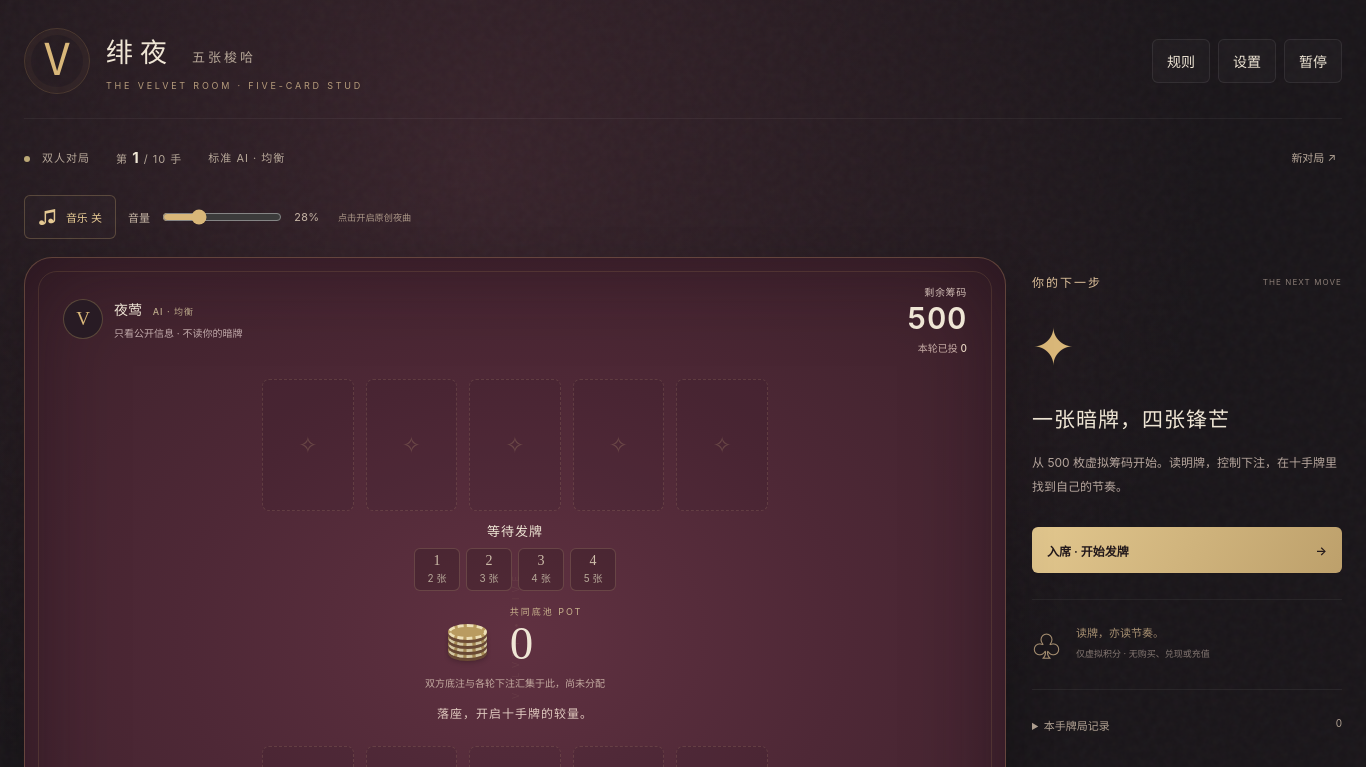
Test: interaction lifecycle › new match requires confirmation; stale AI timer cannot play into reset
The image size is (1366, 767).
Click the button "入席 · 开始发牌 →". click: (1088,551)
box: [1032,527,1342,573]
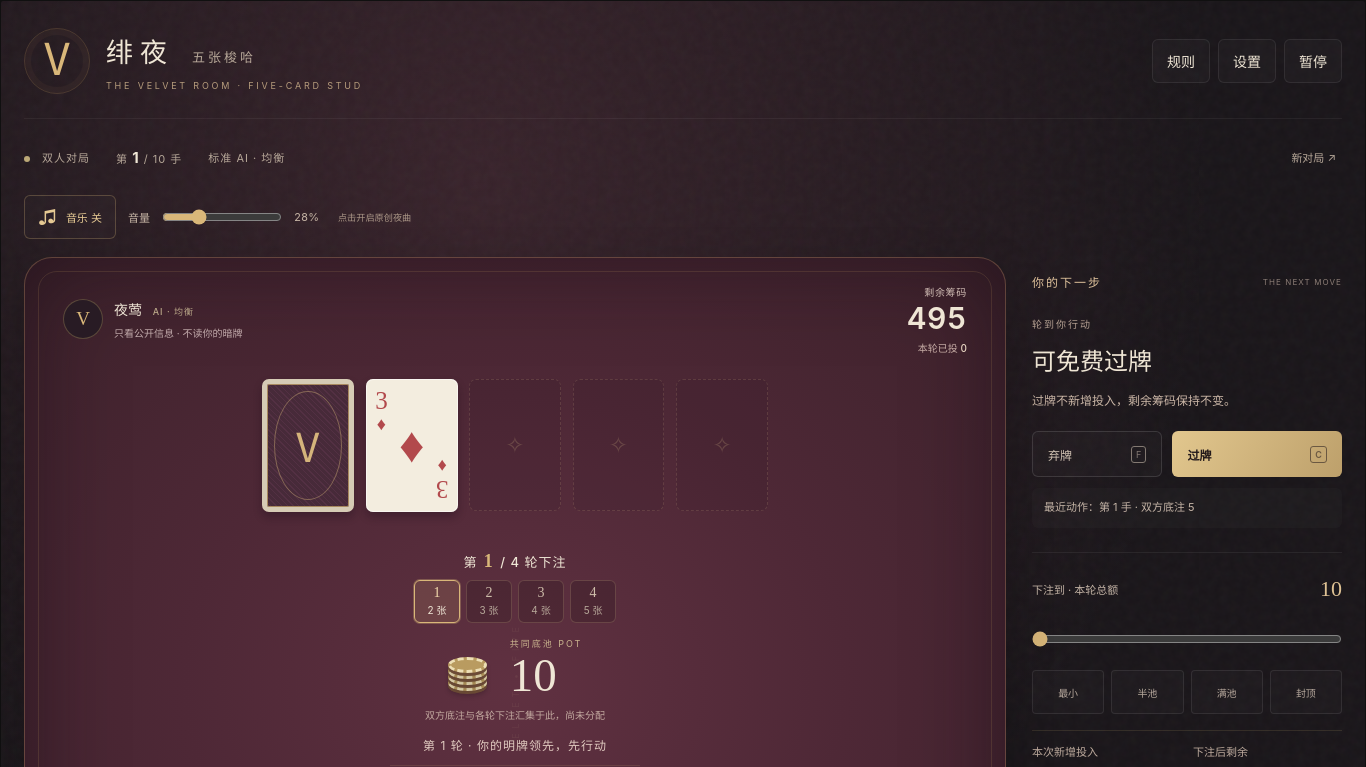
Click the button "新对局 ↗". click: (1314,157)
box: [1285,135,1342,179]
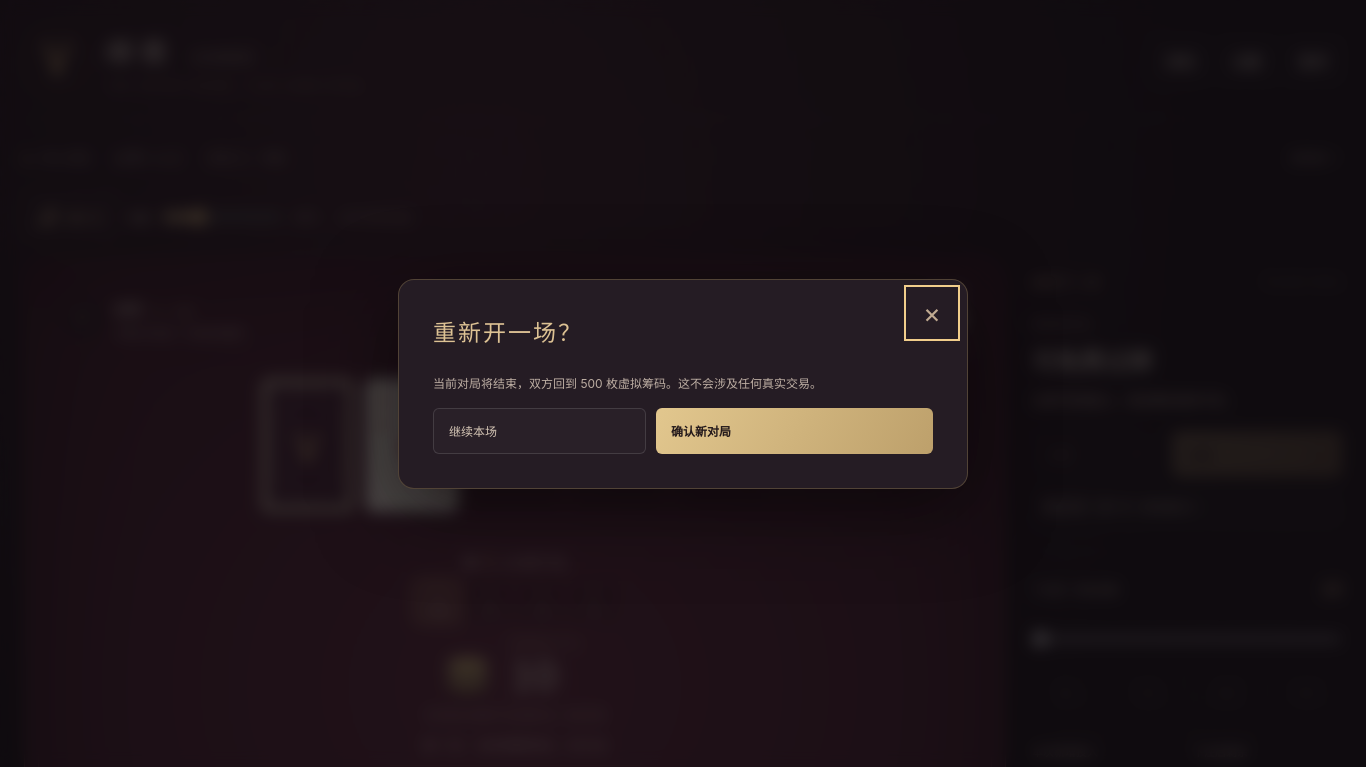
Result: the dialog is shown at [398,279,968,489]
Click the button "确认新对局". click: (701,432)
box: [656,408,933,454]
Wait 20000 ms
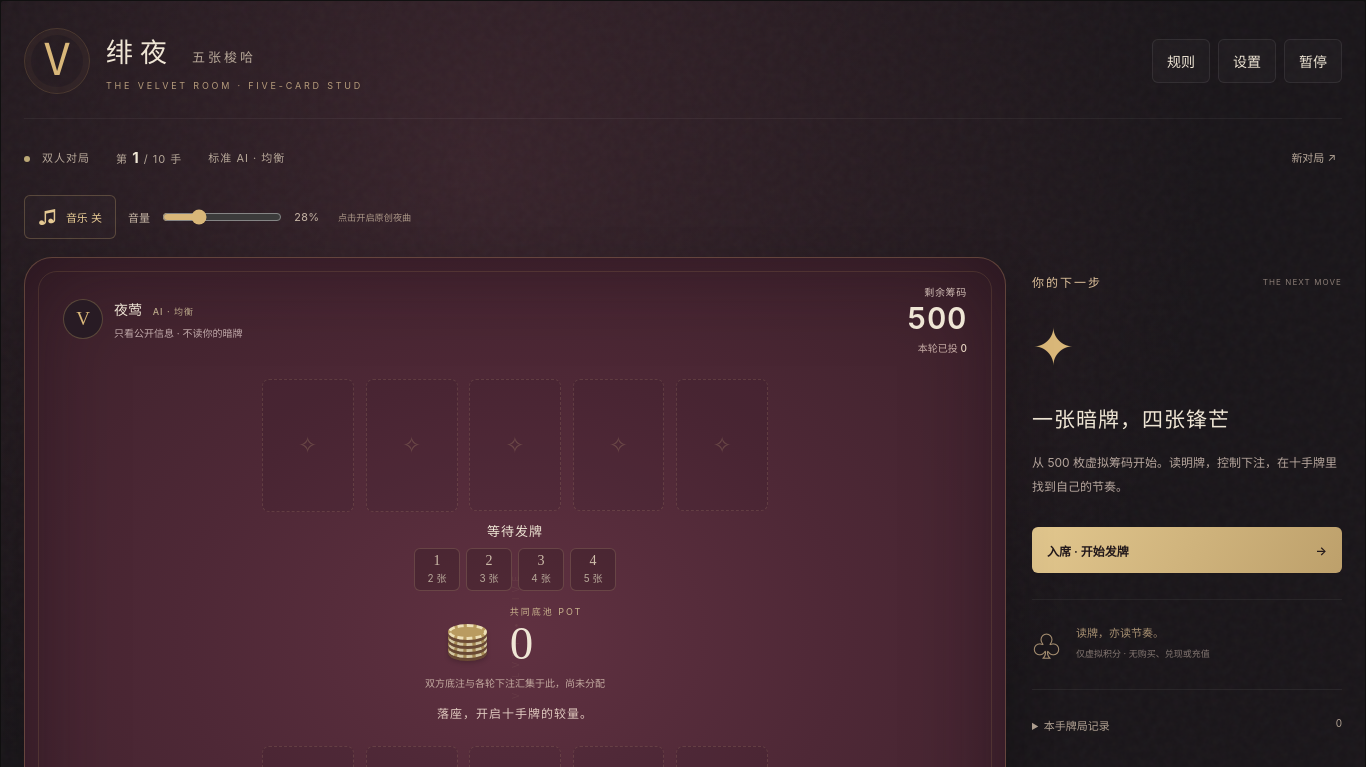
Result: the button "入席 · 开始发牌 →" is shown at [1032,527,1342,573]
Result: the text "500" is shown 2 times
